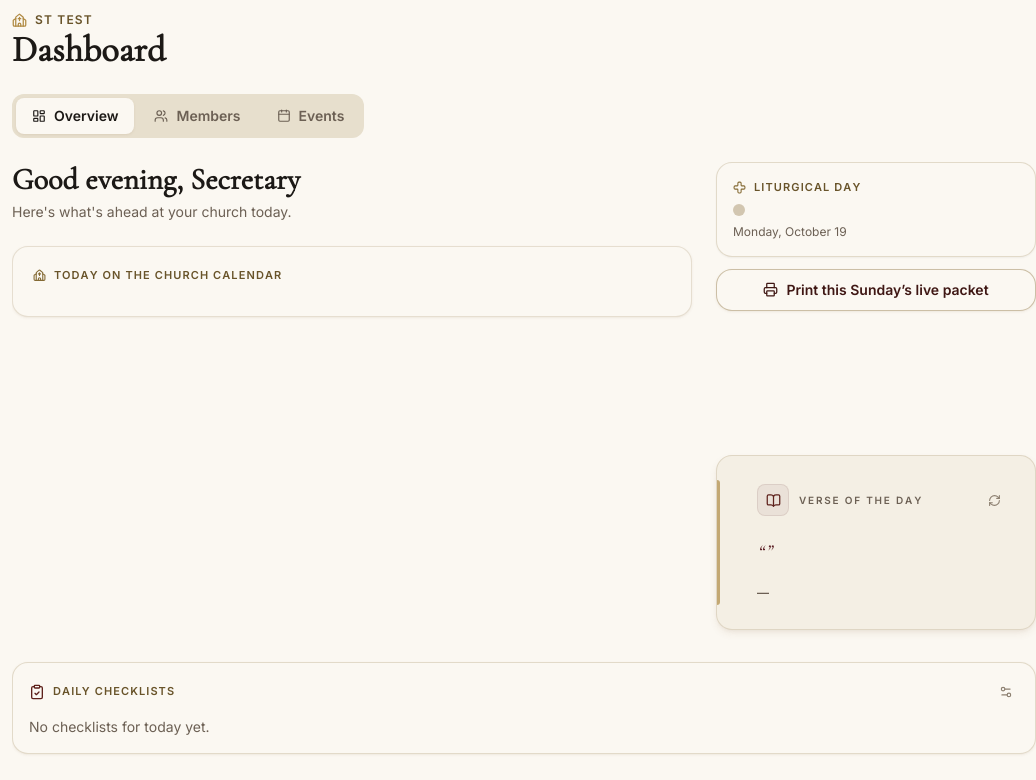
Scenario: Dashboard member roster load › CONTROL: an empty array may say there are no members
Click the button "Members".
click(198, 116)  # box [138, 98, 257, 134]
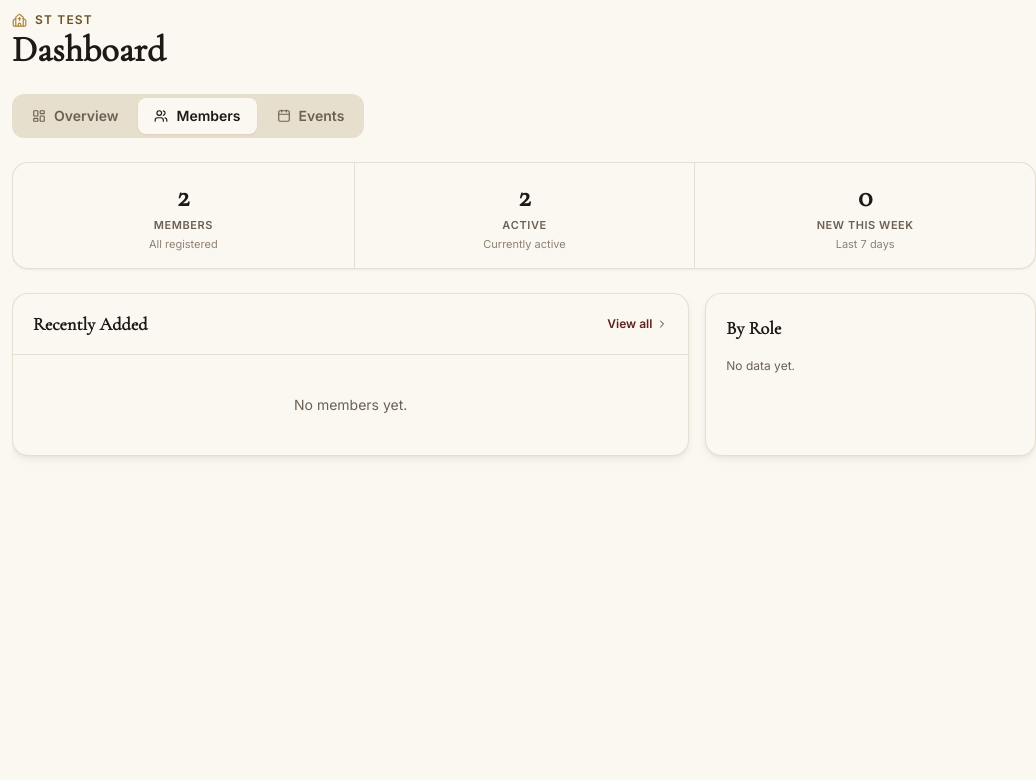
Check: the text "No members yet." is shown, box [294, 396, 407, 413]
